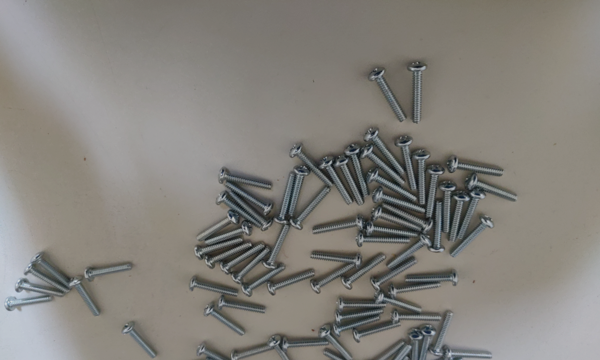longscrew: (369, 68, 406, 123), (464, 173, 522, 207), (292, 143, 335, 188), (290, 186, 332, 231), (222, 180, 276, 215), (361, 144, 407, 184), (228, 190, 275, 229), (385, 236, 435, 271), (369, 129, 406, 174), (452, 219, 493, 259), (321, 156, 352, 207), (386, 199, 438, 229), (380, 199, 432, 229), (335, 155, 366, 205), (34, 252, 72, 292), (369, 171, 421, 200), (370, 200, 422, 229), (342, 254, 385, 289), (24, 262, 70, 294), (347, 146, 374, 199), (231, 249, 273, 283), (204, 305, 246, 339), (447, 155, 506, 179), (218, 167, 274, 192), (243, 264, 284, 298), (216, 196, 259, 228), (218, 245, 265, 274), (203, 241, 250, 269), (374, 289, 426, 314), (370, 259, 418, 286), (123, 323, 157, 360), (309, 265, 353, 293), (70, 277, 100, 318), (320, 327, 357, 360), (193, 234, 241, 259), (13, 275, 67, 297), (197, 212, 239, 240), (277, 169, 297, 226), (206, 221, 253, 245), (265, 224, 290, 269), (462, 189, 484, 240), (218, 294, 269, 316), (267, 272, 315, 295), (189, 277, 239, 299), (370, 214, 418, 236), (353, 321, 400, 343), (427, 161, 443, 222), (415, 144, 431, 205), (400, 132, 416, 193), (410, 62, 426, 123), (83, 262, 136, 280), (3, 293, 53, 312), (392, 305, 444, 323), (449, 191, 467, 243), (312, 249, 361, 268), (349, 231, 411, 246), (335, 316, 381, 336), (227, 343, 280, 360), (309, 217, 368, 232), (405, 271, 459, 287), (290, 165, 306, 217), (436, 309, 452, 358), (445, 345, 496, 360), (367, 340, 404, 360), (281, 336, 330, 351), (332, 309, 388, 322), (390, 280, 440, 294), (270, 336, 297, 360), (196, 345, 239, 360), (336, 298, 388, 310), (433, 200, 445, 252), (444, 178, 455, 234), (322, 349, 366, 360), (383, 345, 412, 360), (423, 324, 435, 360), (410, 330, 422, 360), (387, 355, 409, 360), (423, 359, 465, 360)
